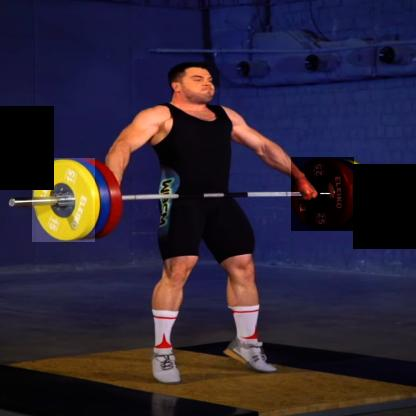barbell: (33, 159, 96, 243), (292, 158, 355, 232)
